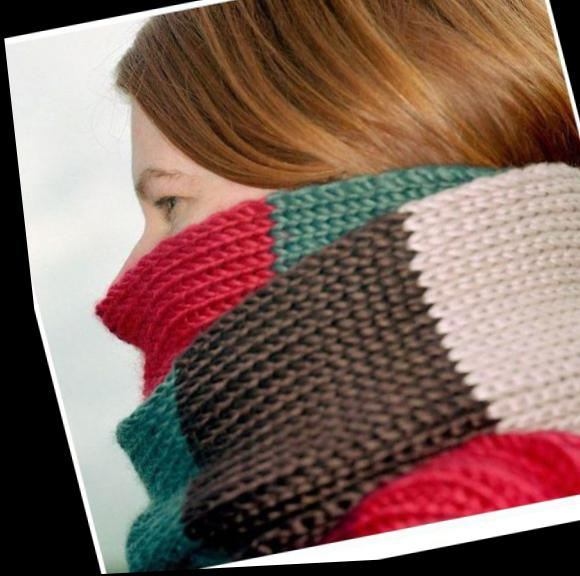WRONG: (54, 105, 390, 472)
